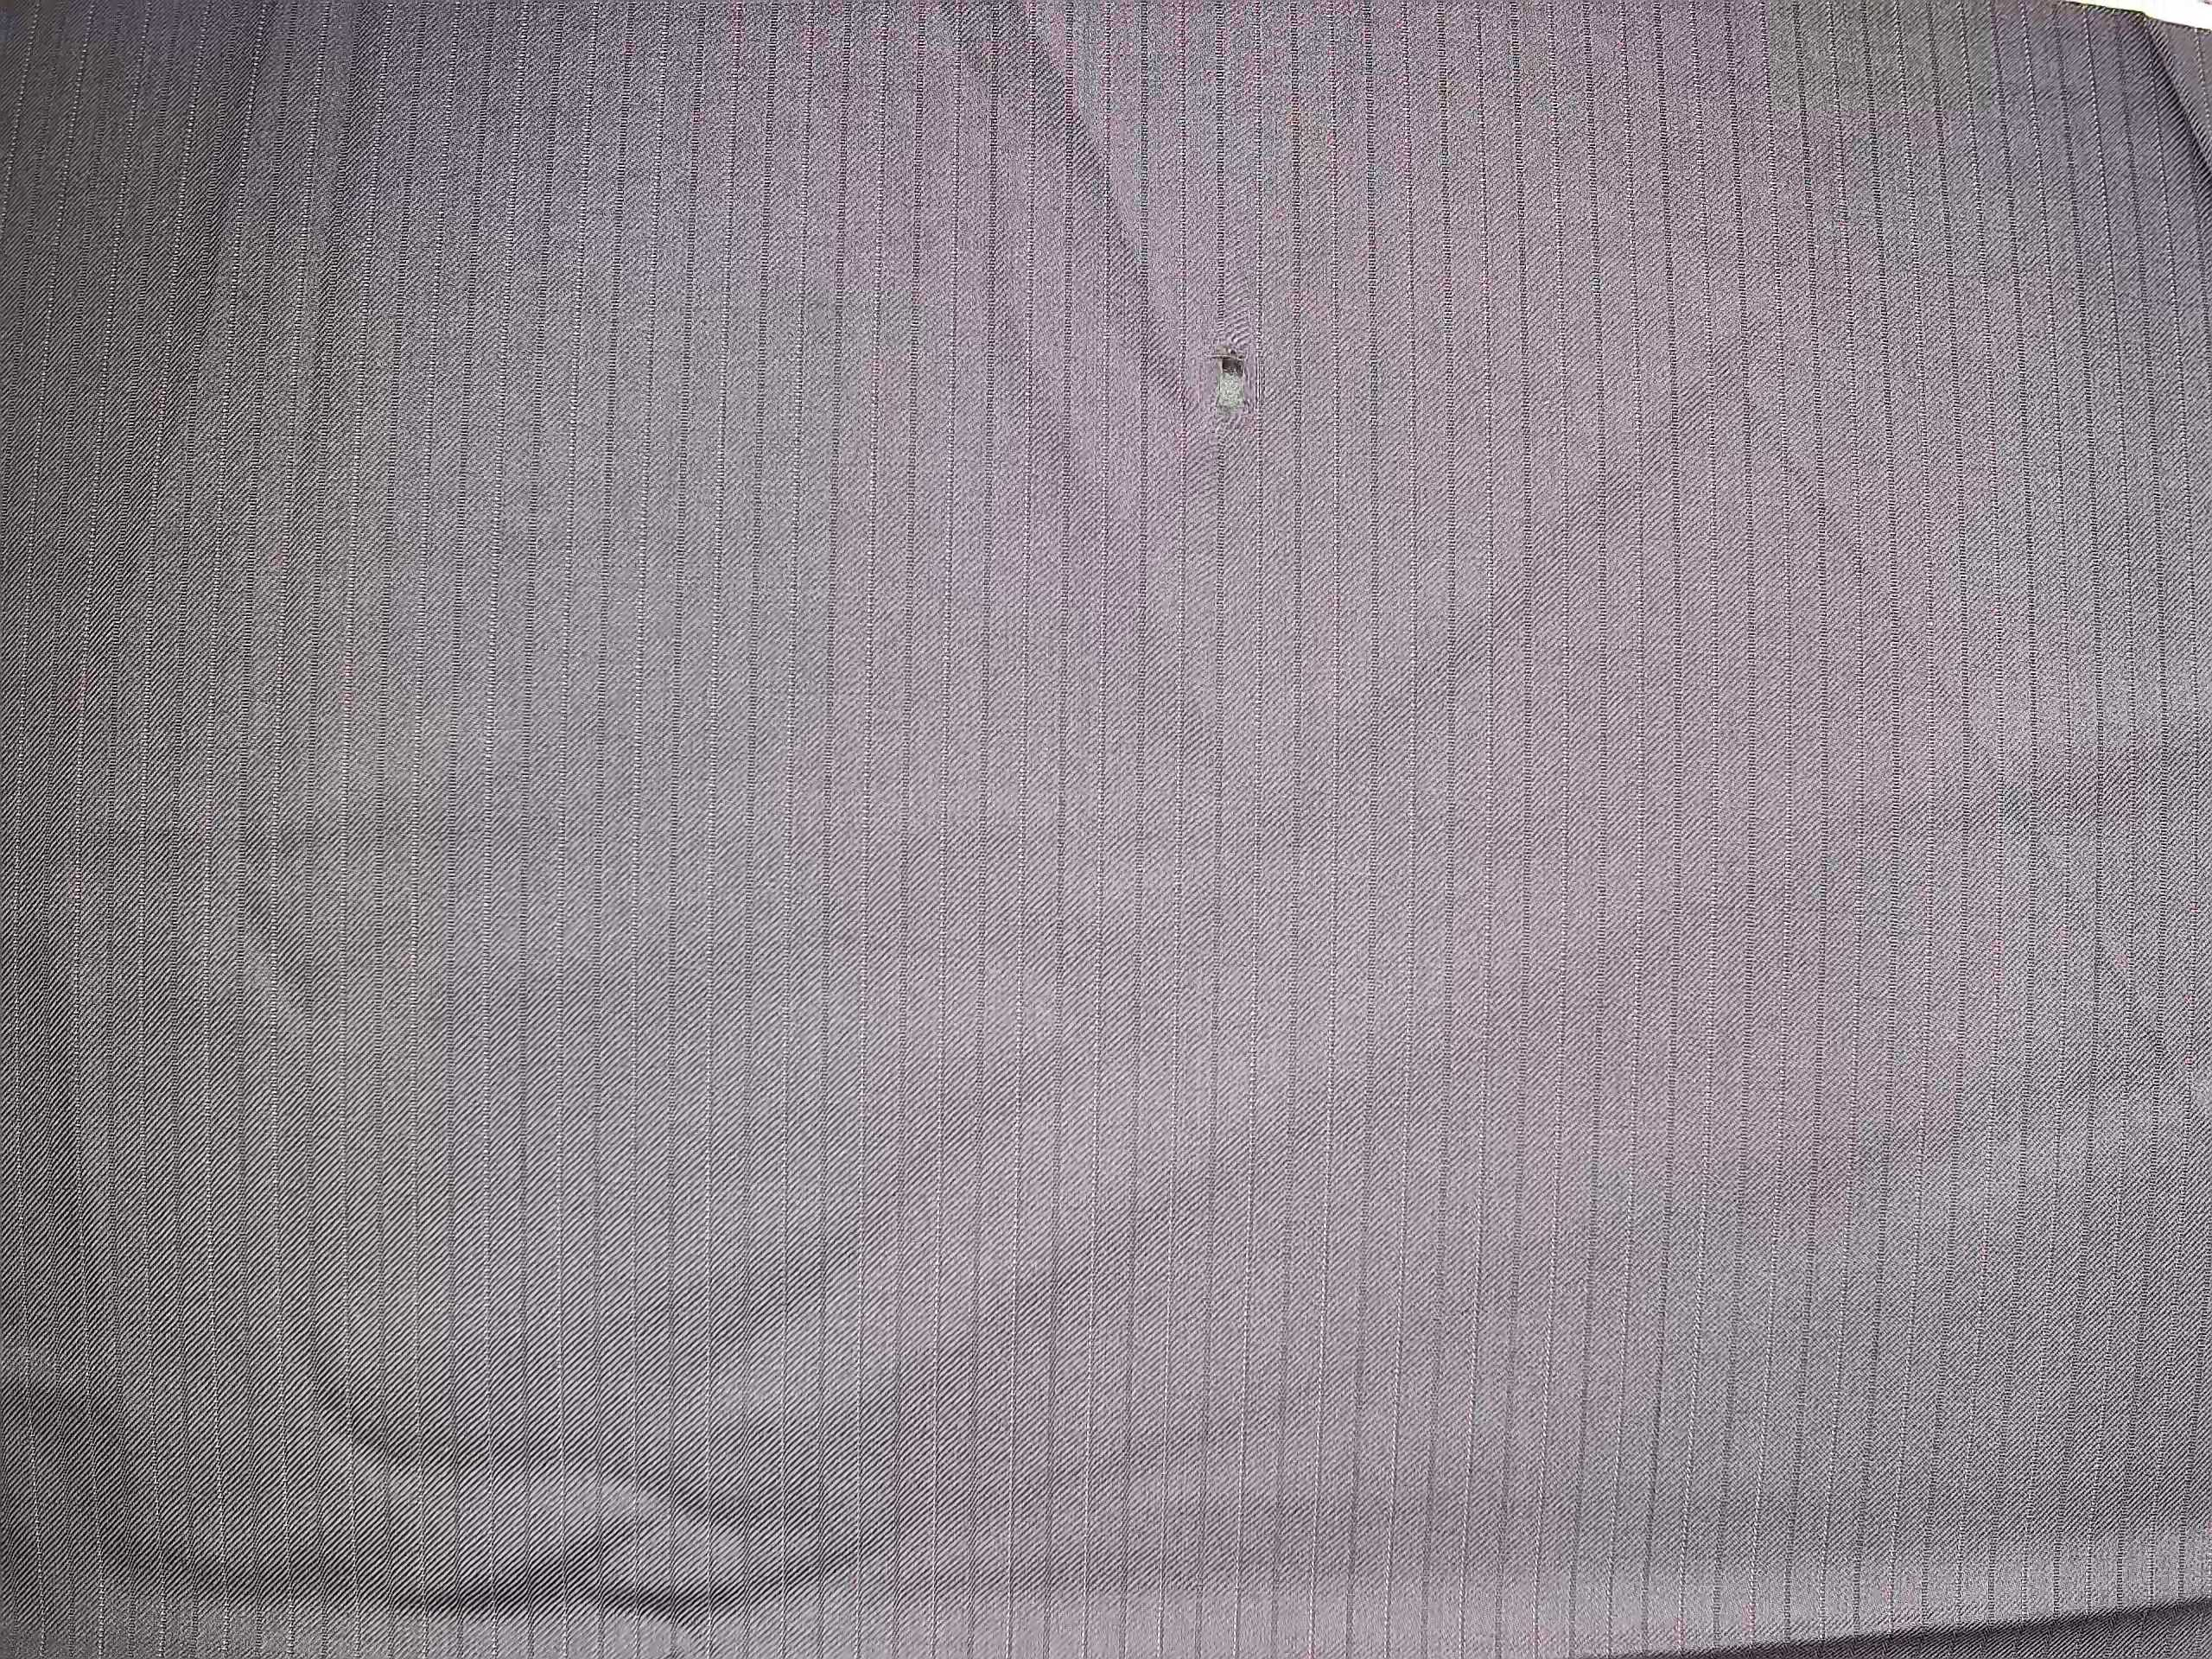rubbing-hole: (1190, 331, 1284, 432)
